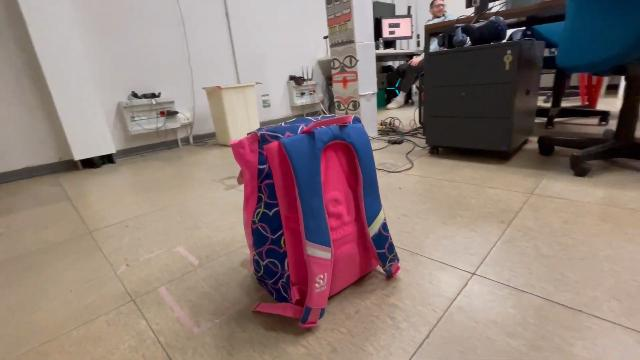Backpack: (222, 107, 408, 335)
